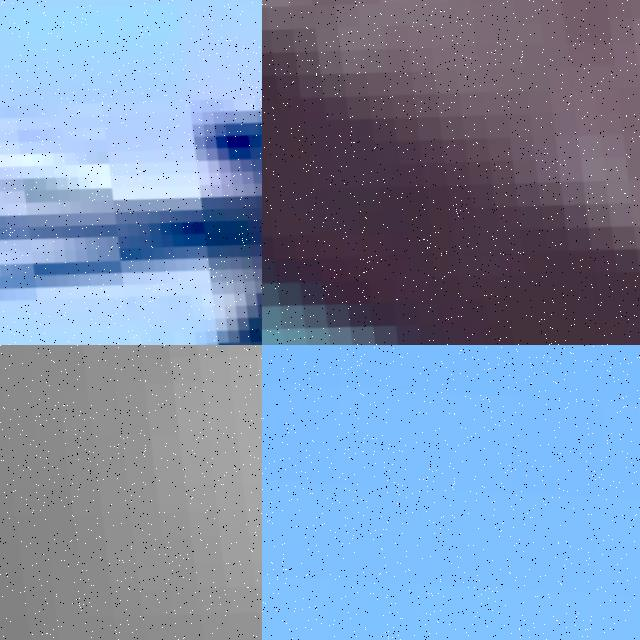drone: (262, 0, 640, 345), (0, 0, 262, 345), (0, 345, 262, 640)
